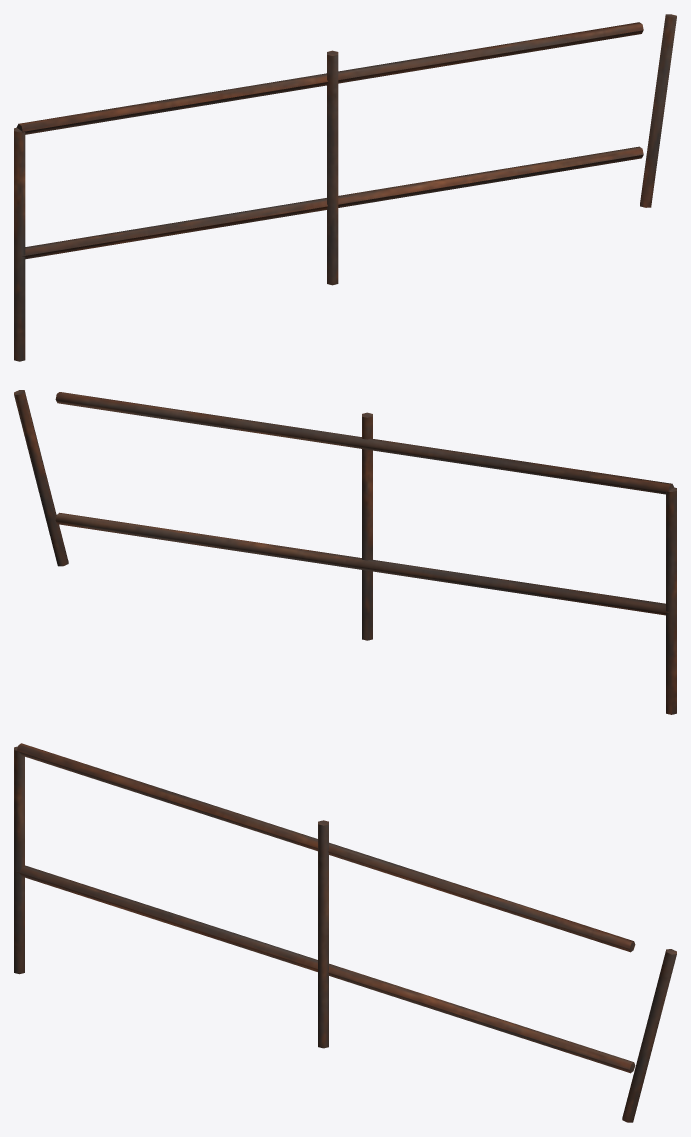
Rendered from Railing_Broken.glb.
3 renders of one model, top to bottom at view 1: azimuth 30°, elevation 25°; view 2: azimuth 150°, elevation 25°; view 3: azimuth 330°, elevation 25°, orthographic. The views are drawn at different scales.
Visible parts, largest first — view 1: Railing_Broken; view 2: Railing_Broken; view 3: Railing_Broken.
Part boxes in pixels (<box>): Railing_Broken: <box>14,14,676,361</box>; Railing_Broken: <box>14,390,676,714</box>; Railing_Broken: <box>14,743,676,1122</box>.
Size of the model in its own units: 3.22 by 1.08 by 0.1283.
1 material, 1 textured.
